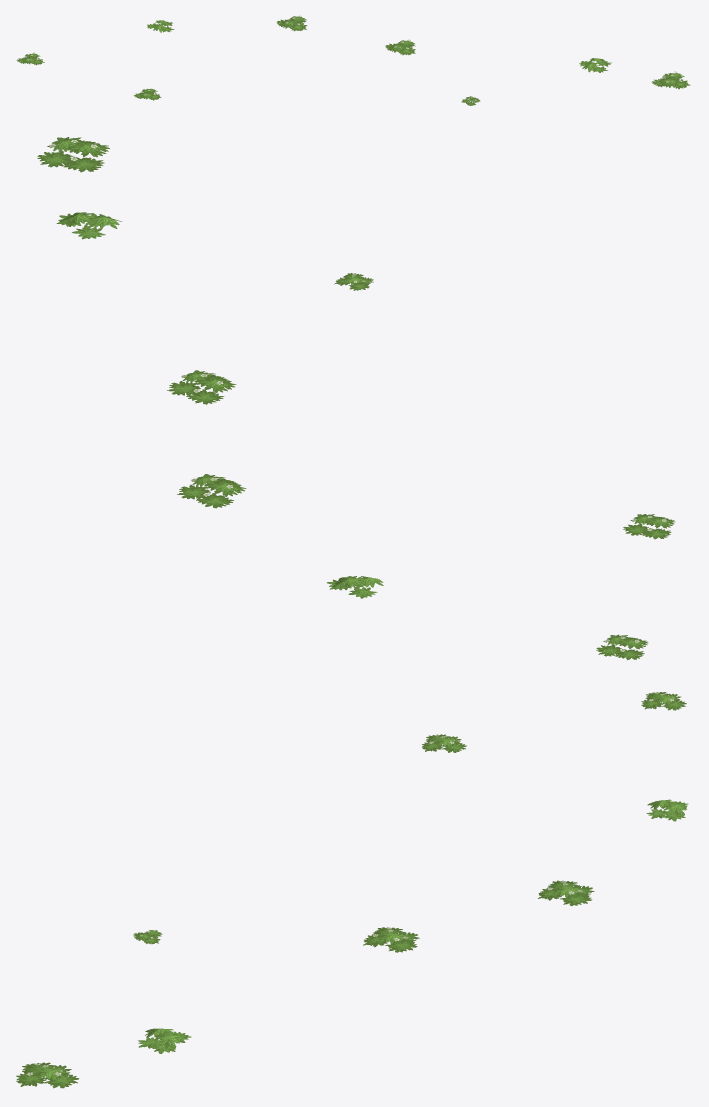
The model's file is Area_07_5.fbx.
3 views of the same model, one above another, from view 1: azimuth 30°, elevation 25°; view 2: azimuth 150°, elevation 25°; view 3: azimuth 270°, elevation 25° (orthographic). The views are drawn at different scales.
Visible parts, largest first — view 1: Area_07_5; view 2: Area_07_5; view 3: Area_07_5.
Boxes of the visible parts, x1,y1,x2,y2 form: Area_07_5: (16,15,690,105); Area_07_5: (37,137,675,660); Area_07_5: (16,692,688,1088).
Bounding box in the file's own units: 5320 × 91.19 × 3824.
